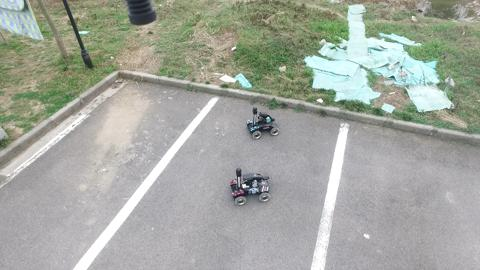chariot: (226, 164, 273, 208), (241, 105, 282, 143)
